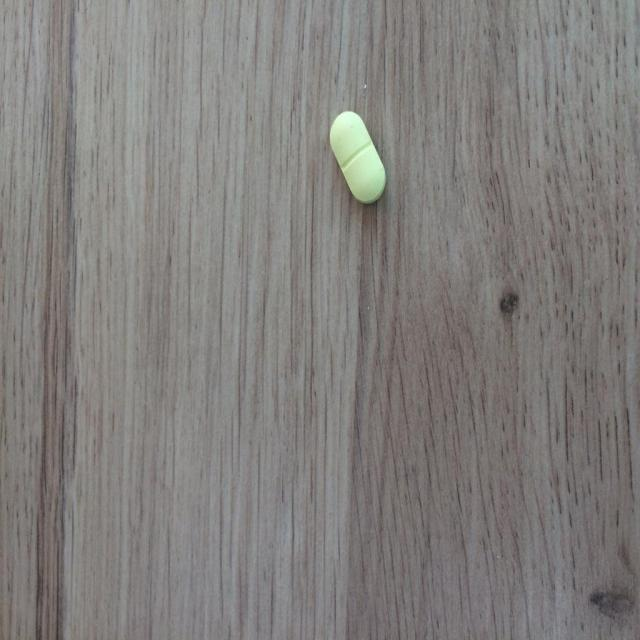pills: (321, 98, 393, 216)
